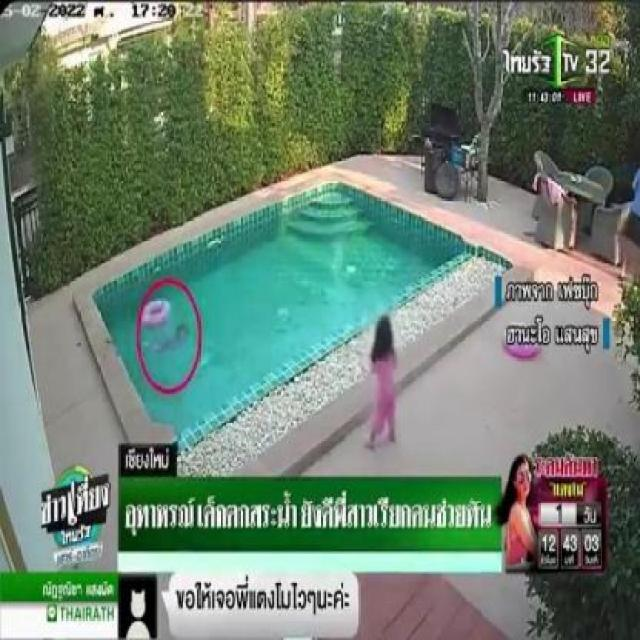drowning: (143, 328, 192, 350)
